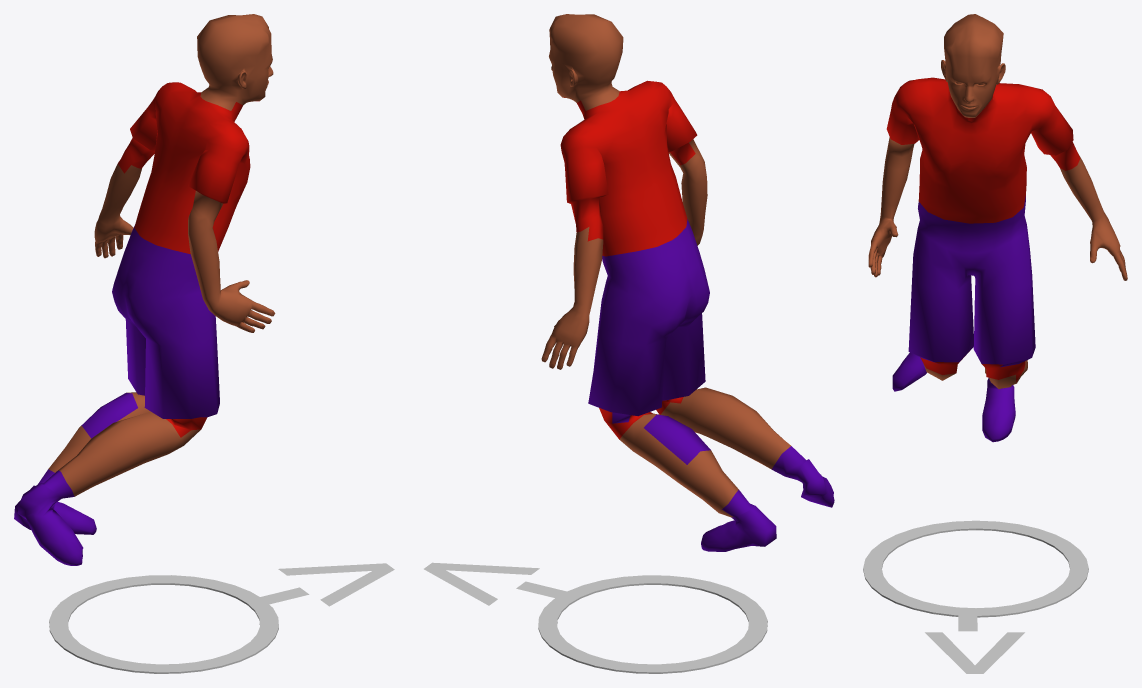
File: player_000012.obj
3 views of the same model, side by side, from view 1: azimuth 30°, elevation 25°; view 2: azimuth 150°, elevation 25°; view 3: azimuth 270°, elevation 25° (orthographic). The views are drawn at different scales.
Visible parts, largest first — view 1: soccerplayer.002_mesh.003, Circle, Text.001_Mesh.001; view 2: soccerplayer.002_mesh.003, Circle, Text.001_Mesh.001; view 3: soccerplayer.002_mesh.003, Circle, Text.001_Mesh.001.
Boxes of the visible parts, <box> form: soccerplayer.002_mesh.003: <box>14,14,275,565</box>; Circle: <box>49,575,278,673</box>; Text.001_Mesh.001: <box>255,563,394,606</box>; soccerplayer.002_mesh.003: <box>541,14,834,551</box>; Circle: <box>538,575,767,673</box>; Text.001_Mesh.001: <box>424,562,569,605</box>; soccerplayer.002_mesh.003: <box>868,14,1127,442</box>; Circle: <box>863,520,1088,617</box>; Text.001_Mesh.001: <box>925,610,1024,673</box>.
Bounding box in the file's own units: 2.1 × 3.09 × 1.28.
